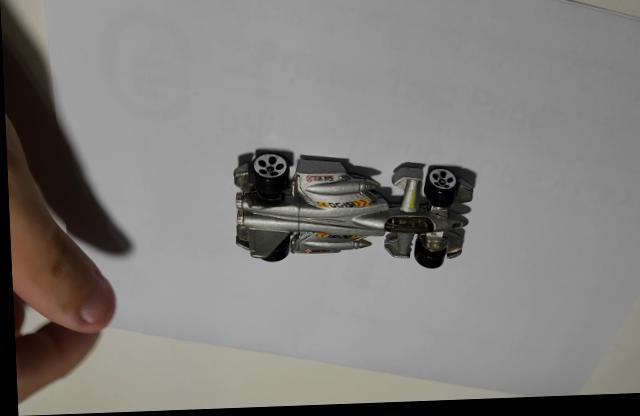05_DC121: (231, 148, 476, 271)
